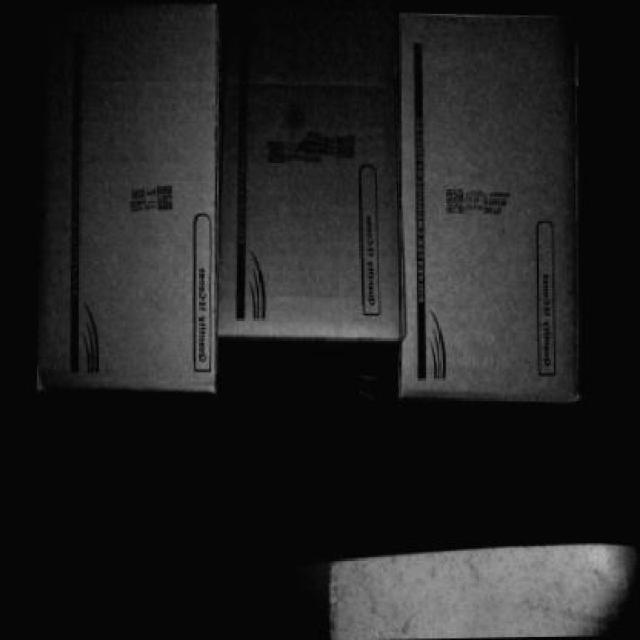cardboxes: (398, 14, 588, 389), (32, 17, 216, 392), (213, 4, 399, 338)
